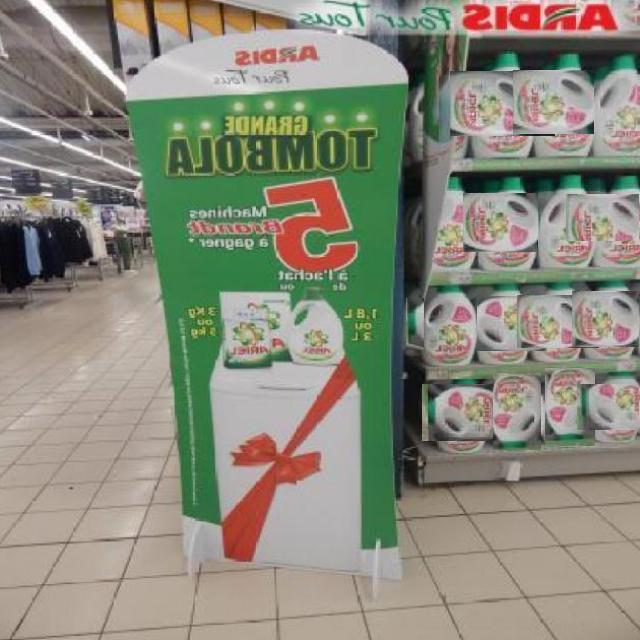Detergent: (450, 71, 555, 136), (512, 71, 619, 134), (538, 173, 600, 270), (463, 193, 556, 252), (433, 174, 481, 274), (463, 295, 547, 351), (423, 384, 502, 441), (595, 56, 639, 157), (517, 295, 599, 348), (407, 297, 488, 350), (424, 286, 477, 365), (545, 367, 595, 446), (572, 291, 640, 347), (492, 373, 541, 450), (565, 195, 640, 241), (577, 383, 640, 430)
